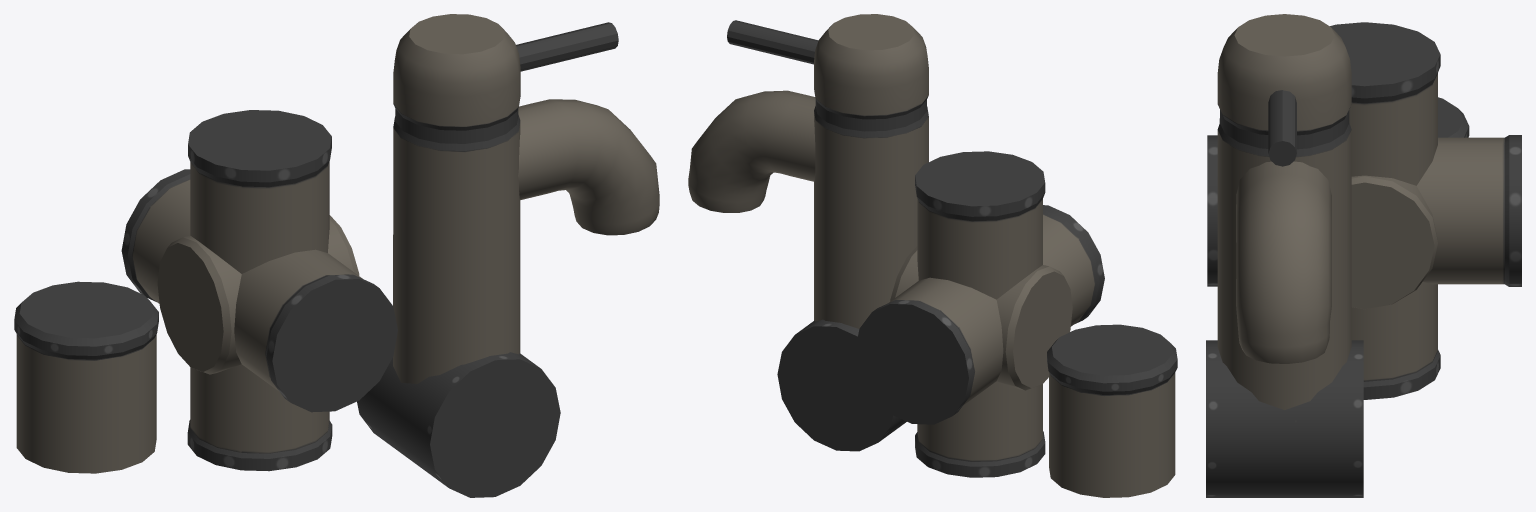
The model's file is tubes 2 .fbx.
3 views of the same model, side by side, from view 1: azimuth 30°, elevation 25°; view 2: azimuth 150°, elevation 25°; view 3: azimuth 270°, elevation 25° (orthographic). The views are drawn at different scales.
Parts seen in each view (by area): view 1: Cylinder, Cylinder.003, Cylinder.001; view 2: Cylinder, Cylinder.003, Cylinder.001; view 3: Cylinder, Cylinder.003, Cylinder.001.
Part boxes in pixels (<box>): Cylinder: <box>357,14,659,497</box>; Cylinder.003: <box>121,110,397,471</box>; Cylinder.001: <box>14,281,158,473</box>; Cylinder: <box>688,14,928,451</box>; Cylinder.003: <box>855,151,1104,477</box>; Cylinder.001: <box>1047,324,1177,497</box>; Cylinder: <box>1206,14,1363,497</box>; Cylinder.003: <box>1207,22,1521,399</box>; Cylinder.001: <box>1438,97,1469,137</box>.
Bounding box in the file's own units: 430 × 309 × 195.
